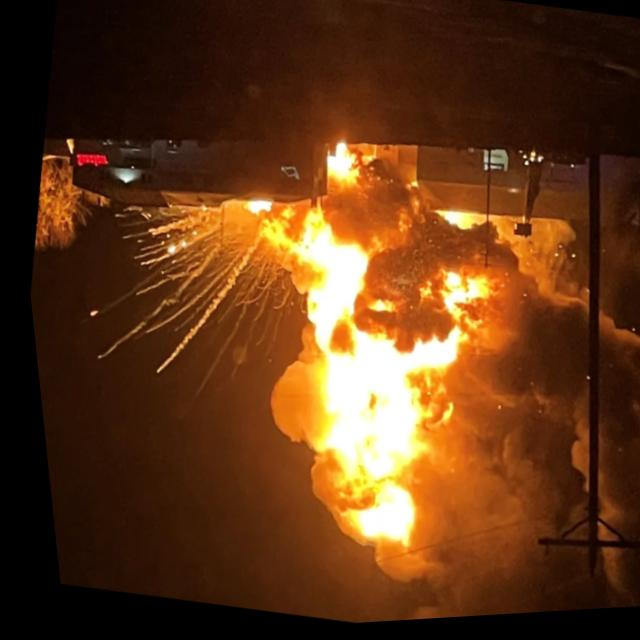Fire: (173, 193, 520, 625)
